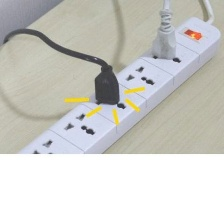three_eye_plug: (0, 13, 223, 191)
